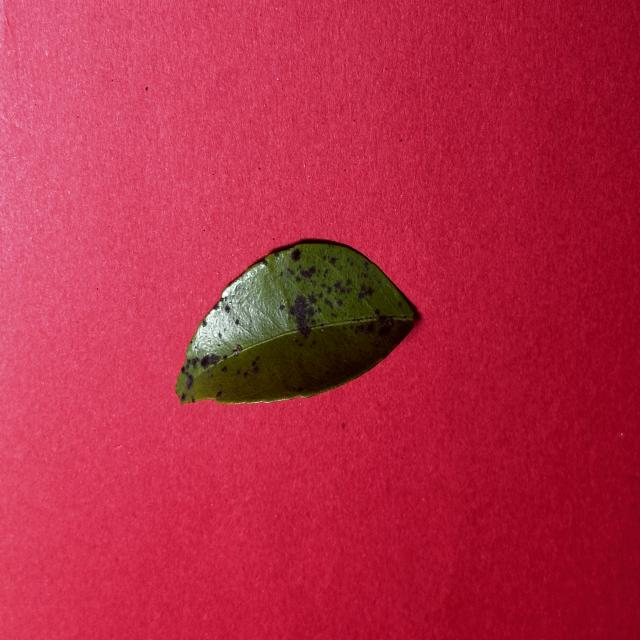sooty_mold: (175, 242, 414, 404)
